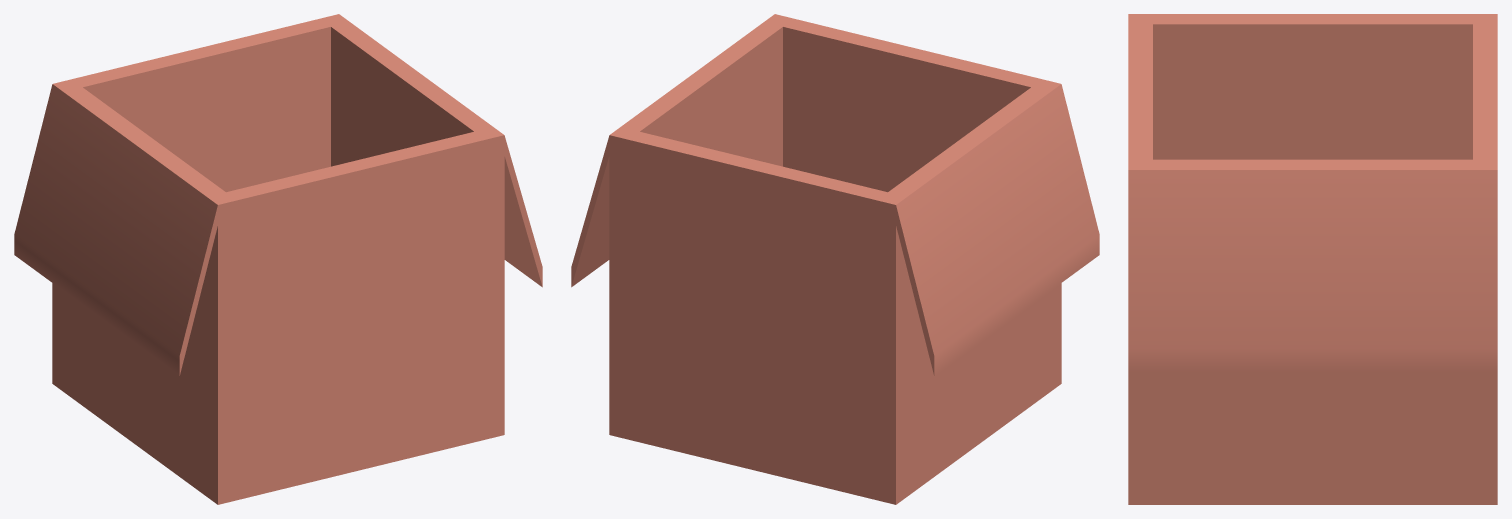
Rendered from OpenCarboardBox.fbx.
3 views of the same model, side by side, from view 1: azimuth 30°, elevation 25°; view 2: azimuth 150°, elevation 25°; view 3: azimuth 270°, elevation 25° (orthographic). The views are drawn at different scales.
Parts seen in each view (by area): view 1: Cardboard_Box; view 2: Cardboard_Box; view 3: Cardboard_Box.
Boxes of the visible parts, bbox=[...] form: Cardboard_Box: bbox=[14, 14, 542, 504]; Cardboard_Box: bbox=[571, 14, 1099, 504]; Cardboard_Box: bbox=[1128, 14, 1497, 504].
Size of the model in its own units: 158 by 125 by 125.
